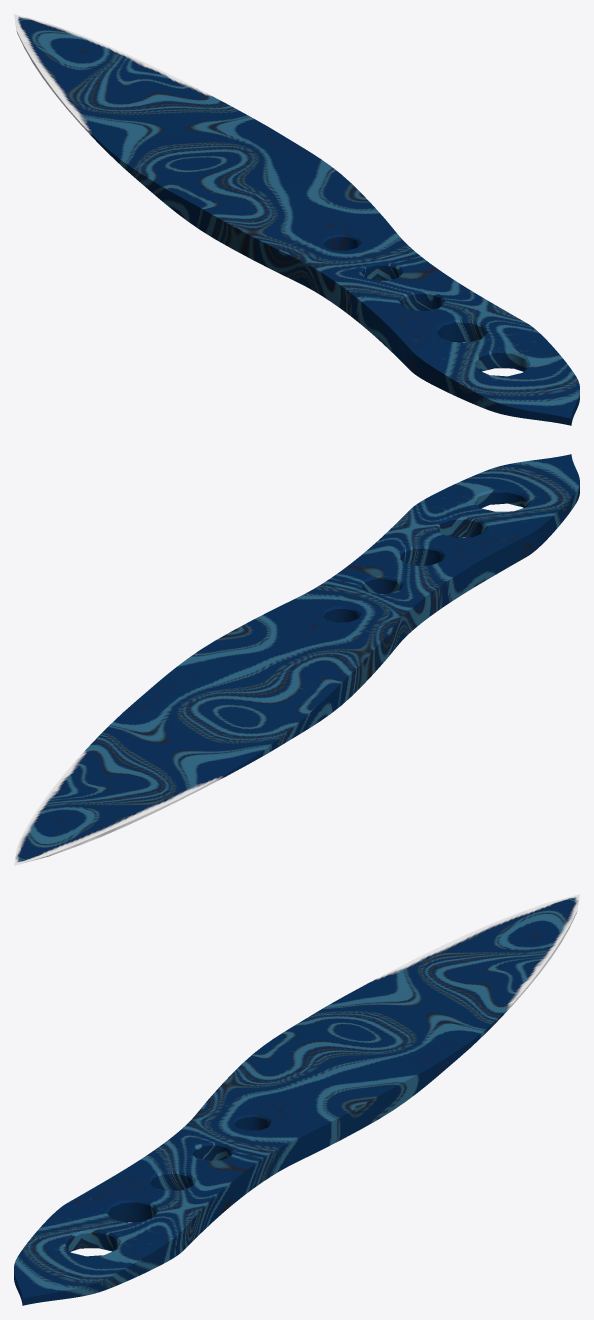
File: CouteauScienceFiction.fbx
3 renders of one model, top to bottom at view 1: azimuth 30°, elevation 25°; view 2: azimuth 150°, elevation 25°; view 3: azimuth 330°, elevation 25°, orthographic.
Visible parts, largest first — view 1: CouteauScienceFiction; view 2: CouteauScienceFiction; view 3: CouteauScienceFiction.
Boxes of the visible parts, x1=… form: CouteauScienceFiction: x1=14, y1=14, x2=579, y2=425; CouteauScienceFiction: x1=14, y1=454, x2=579, y2=865; CouteauScienceFiction: x1=14, y1=894, x2=579, y2=1305.
Size of the model in its own units: 4.55 by 0.686 by 30.
Materials: 1 (1 with a texture image).
